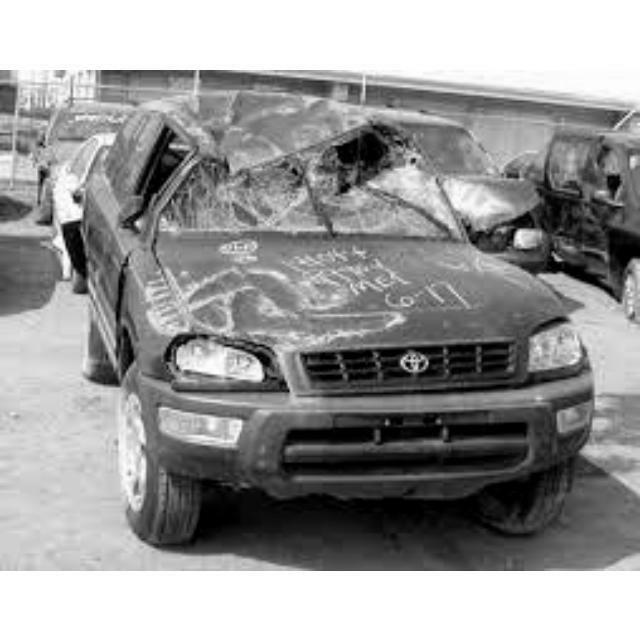Front-windscreen-damage: (157, 130, 474, 243)
Headlight-damage: (144, 331, 280, 391)
bonnet-dent: (134, 249, 572, 352)
roof-dent: (159, 84, 416, 164)
